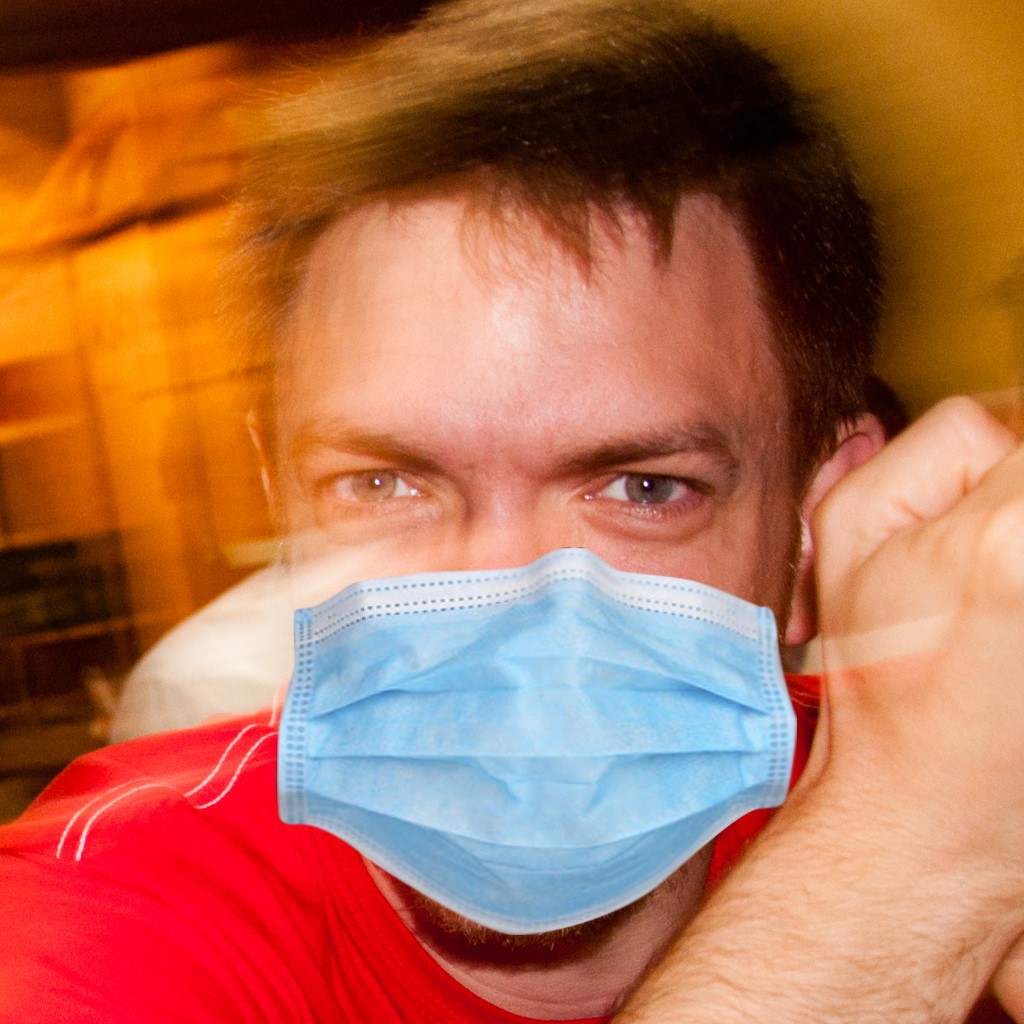con_mascara: (272, 149, 796, 929)
